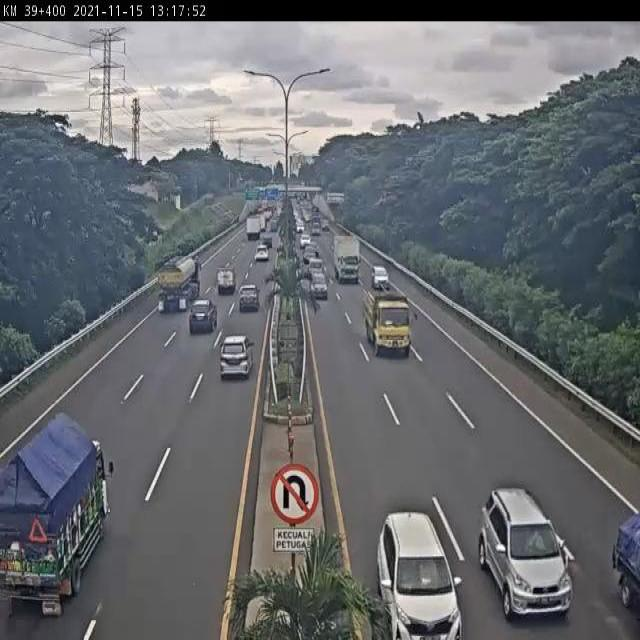car: (477, 485, 574, 620), (216, 333, 255, 384), (187, 298, 218, 338), (238, 283, 261, 313), (308, 272, 329, 300), (370, 265, 390, 292)
truck-m-: (0, 411, 110, 609), (363, 289, 411, 355), (332, 233, 362, 287)
truck-s-: (215, 264, 239, 300)
truck-xl-: (155, 256, 201, 319)
